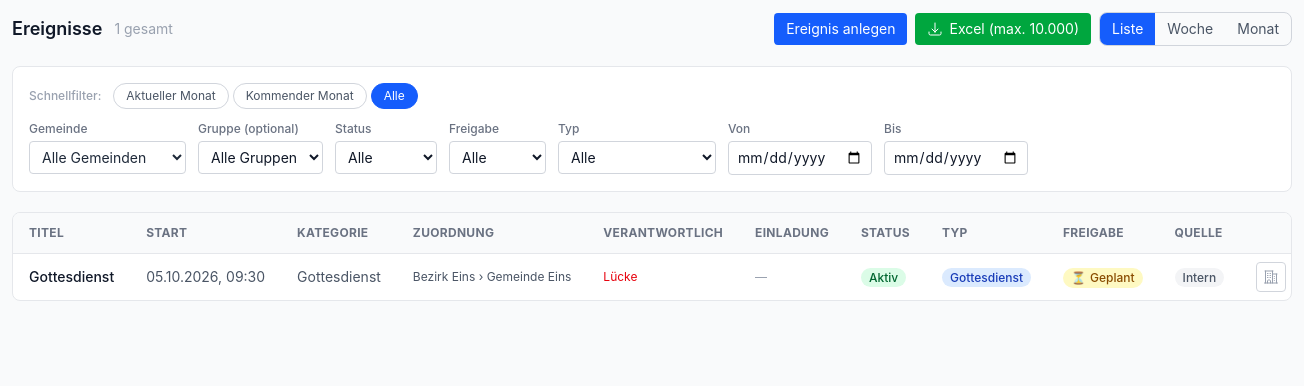
Test: EventListView › exports all matching events and warns when the safety cap truncates the result
Click the button "Excel (max. 10.000)" at (1003, 29), box [916,13,1091,45]
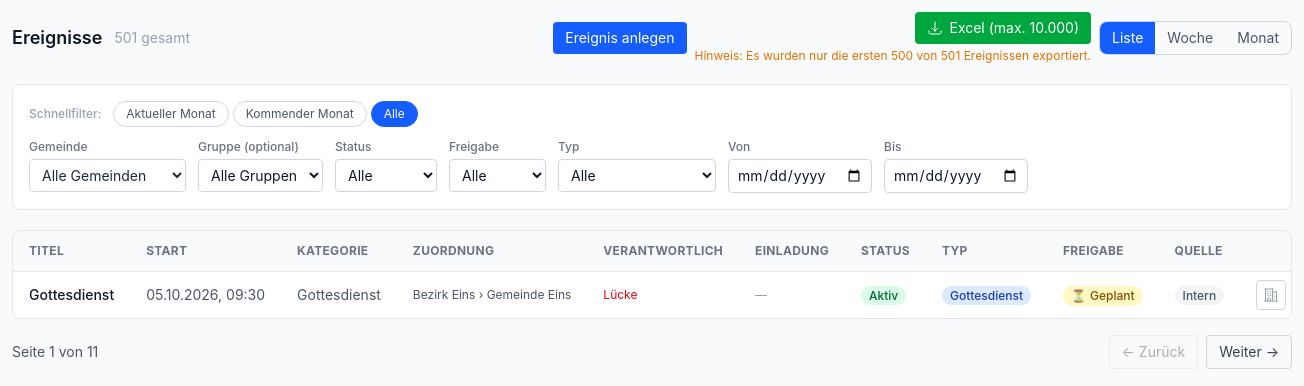
expect the text "ersten 500 von 501" is shown: met, box [694,48,1091,63]
